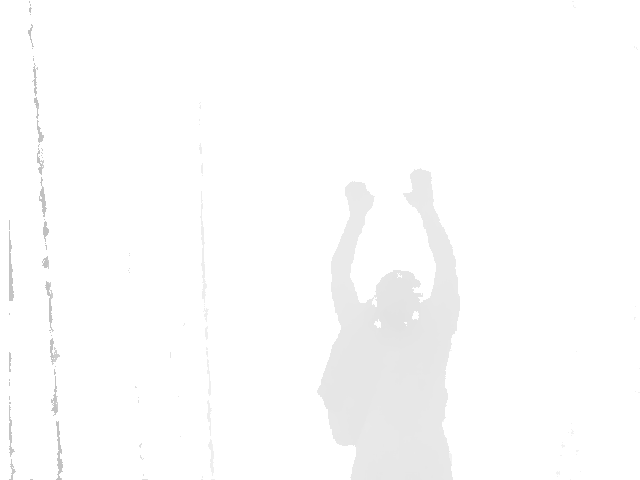hand: (404, 167, 436, 213), (344, 180, 377, 213)
head: (371, 269, 424, 327)
person: (318, 165, 462, 480)
